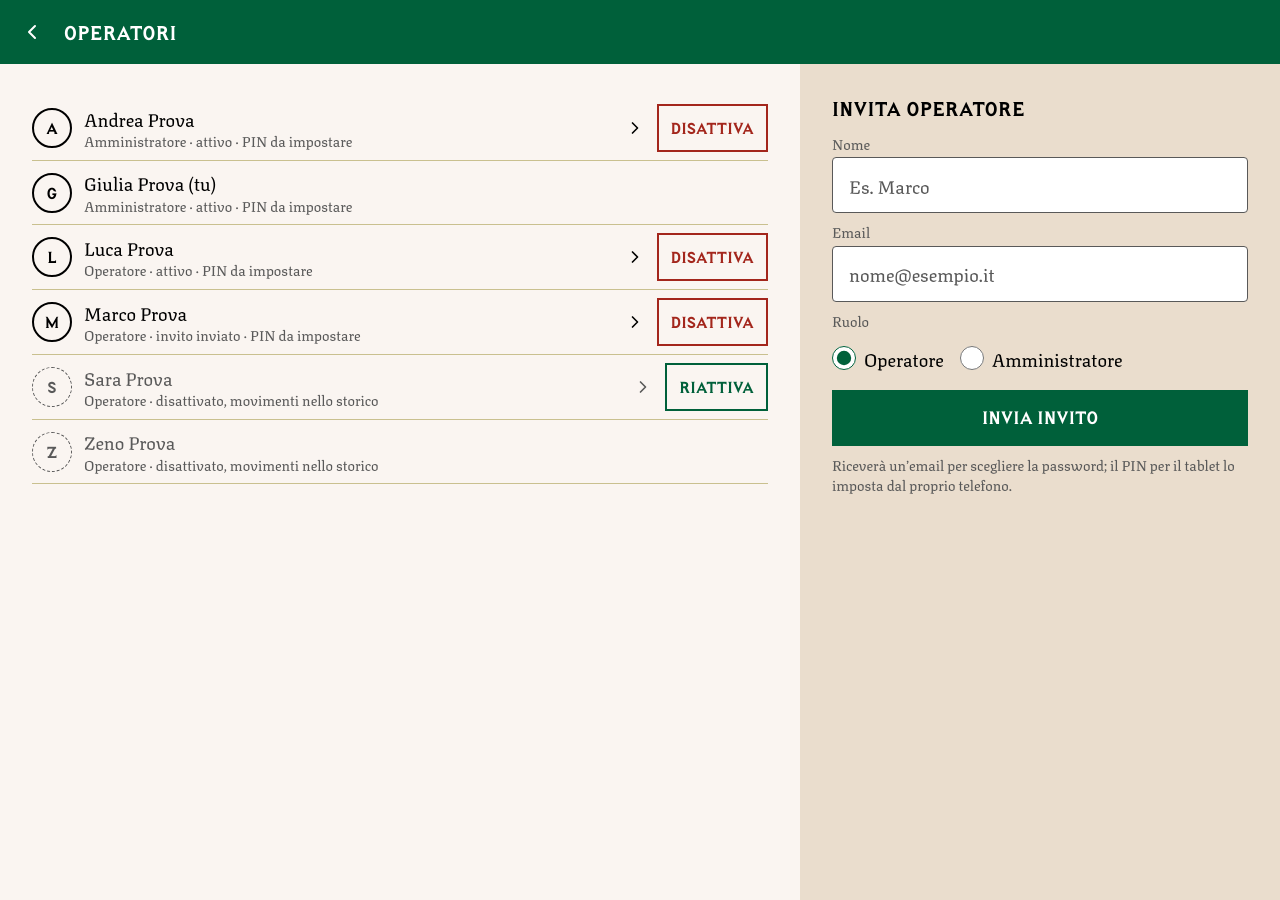
Scenario: OperatorDialog: opening it › deactivated: only the email and the state
Click the button "Sara Prova Operatore · disattivato, movimenti nello storico".
click(369, 387)  # box [84,363,653,411]
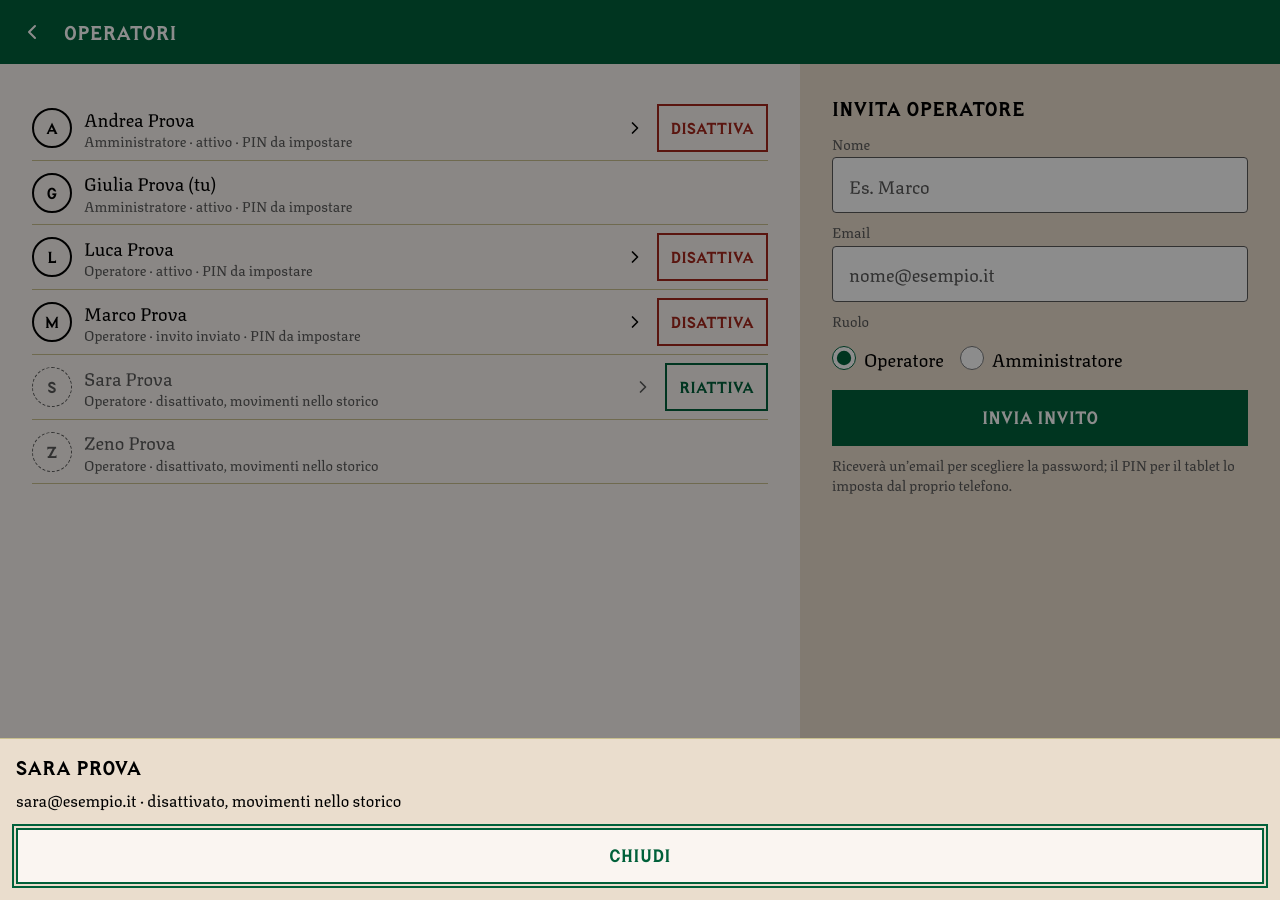
Expected: the buttons read "Chiudi", in this order, [16,828,1264,884]
